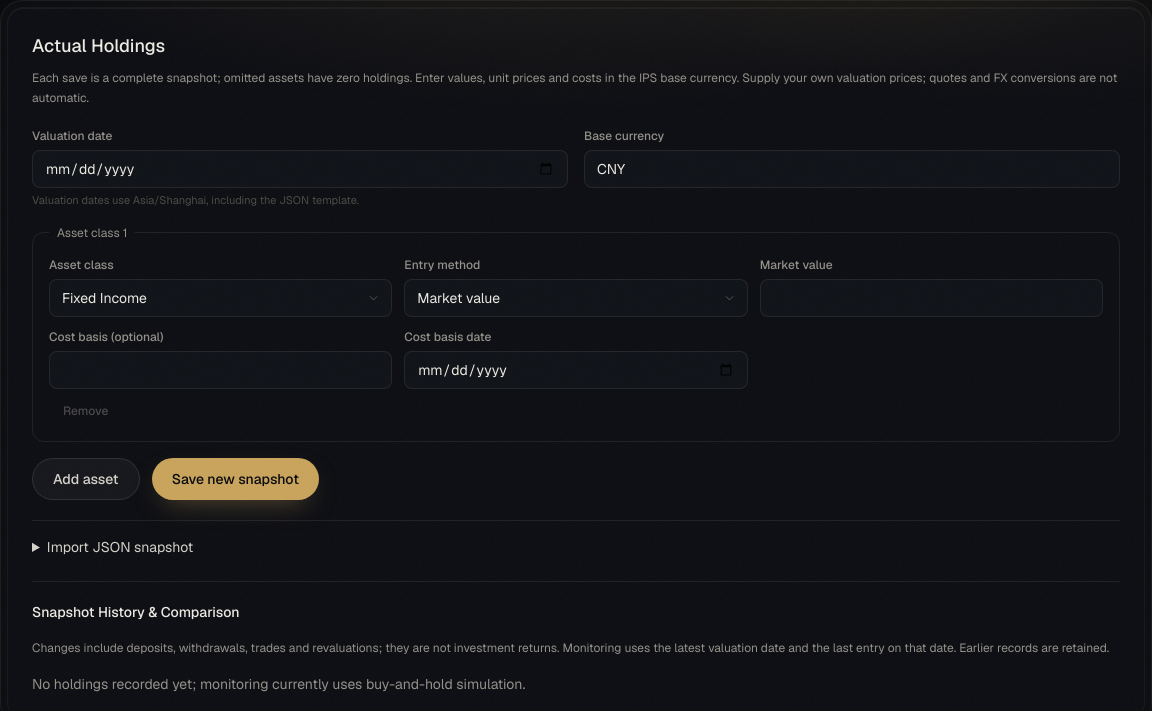
Test: HoldingsWorkspace › keeps failed input reviewable and renders localized backend errors
Type "2026-06-10" into the date field labelled "Valuation date" at (300, 169), box x1=32 y1=150 x2=568 y2=188
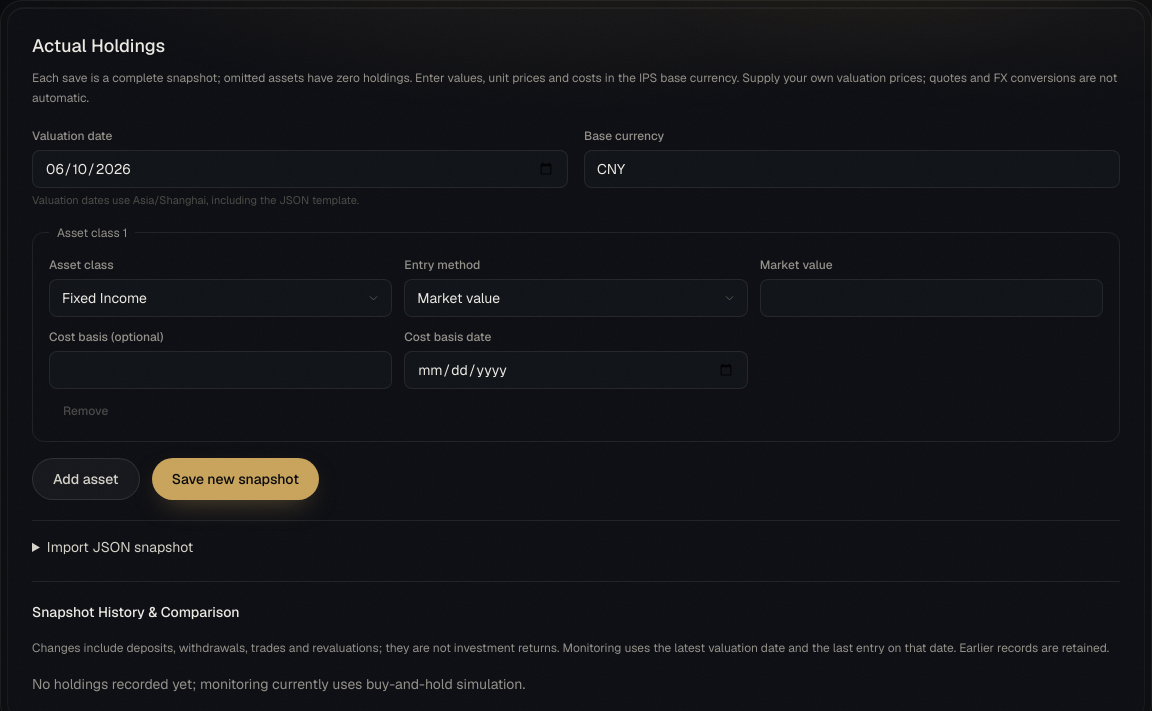
Type "800" into the number field labelled "Market value" at (931, 298), box x1=760 y1=278 x2=1103 y2=316
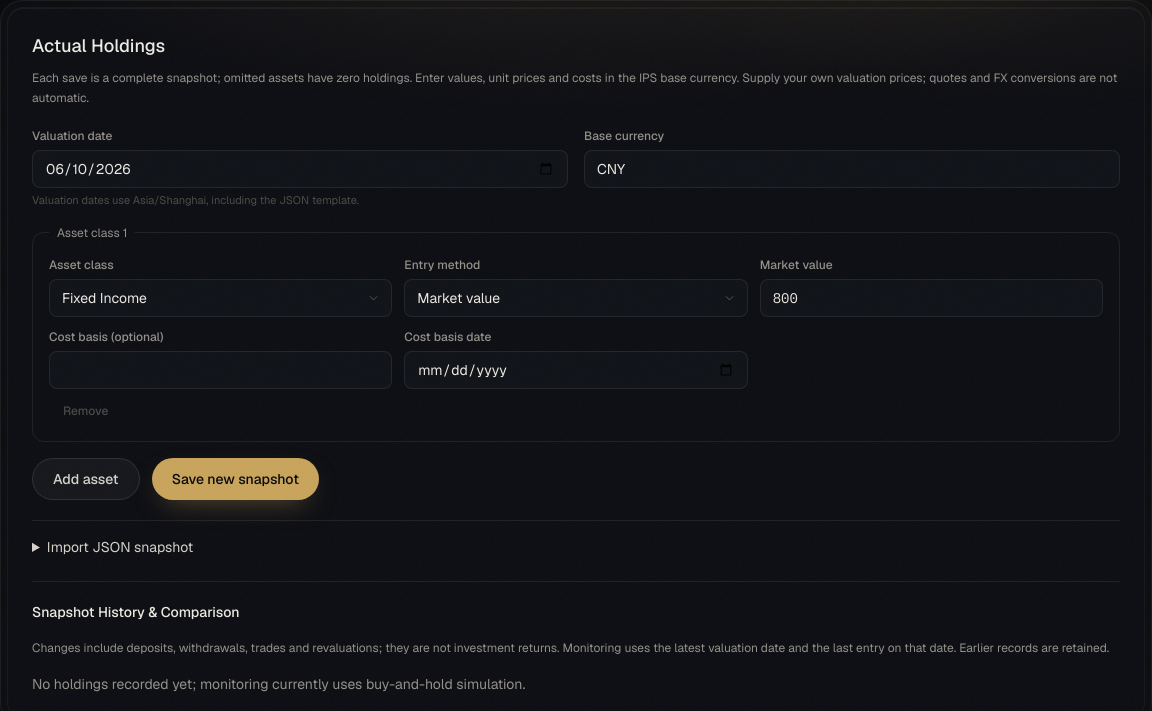
Click the button "Save new snapshot" at (235, 478), box x1=152 y1=458 x2=319 y2=500
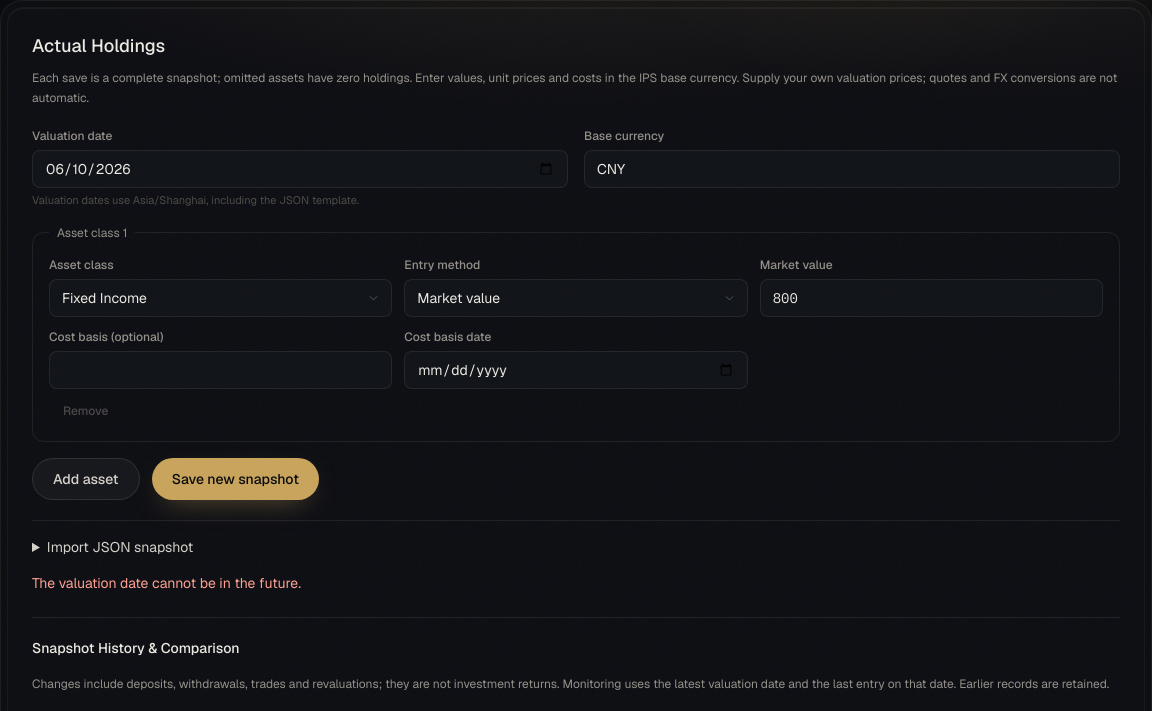
Expected: the message shows "cannot be in the future", x1=32 y1=574 x2=301 y2=592
